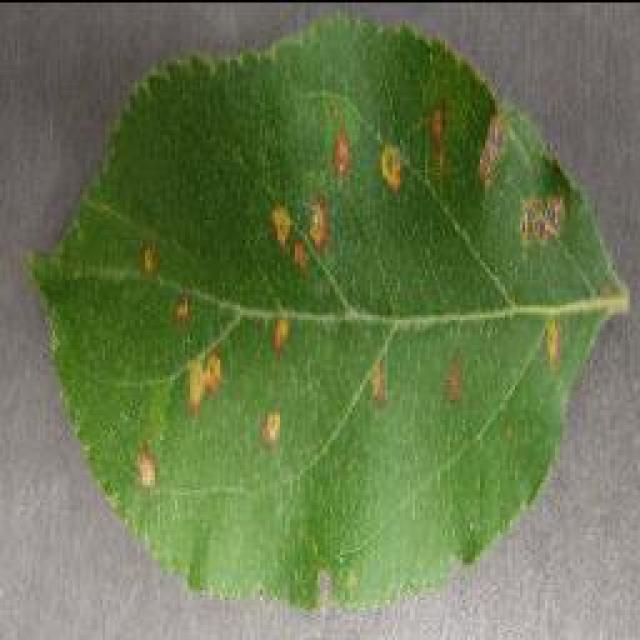apple scab disease: (25, 10, 630, 612)
